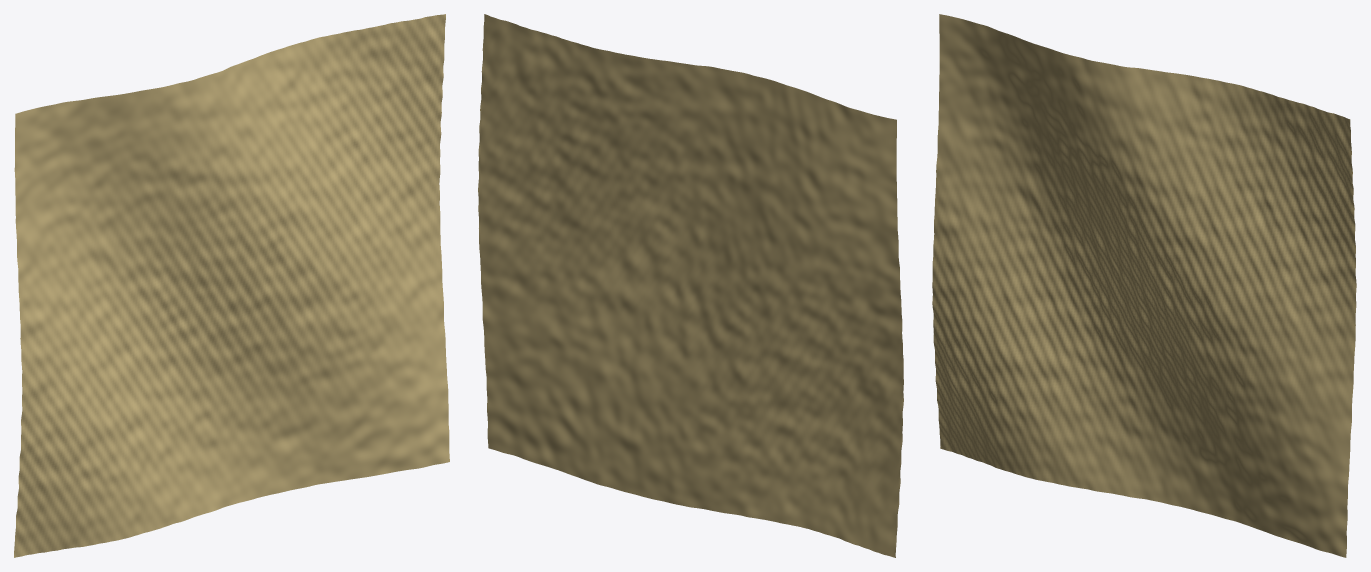
File: dunes.obj
3 renders of one model, left to right at view 1: azimuth 30°, elevation 25°; view 2: azimuth 150°, elevation 25°; view 3: azimuth 330°, elevation 25°, orthographic. The views are drawn at different scales.
Bounding box in the file's own units: 80 × 80 × 5.
